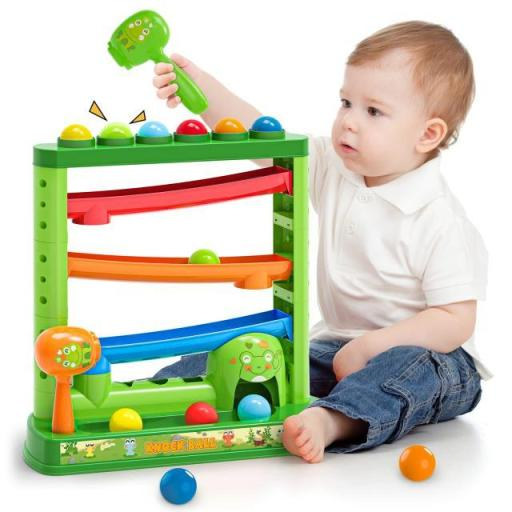baby: (283, 22, 491, 462)
